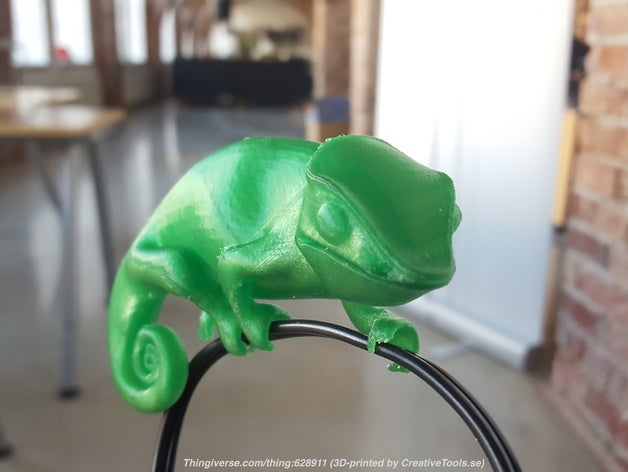Good: (95, 122, 501, 408)
